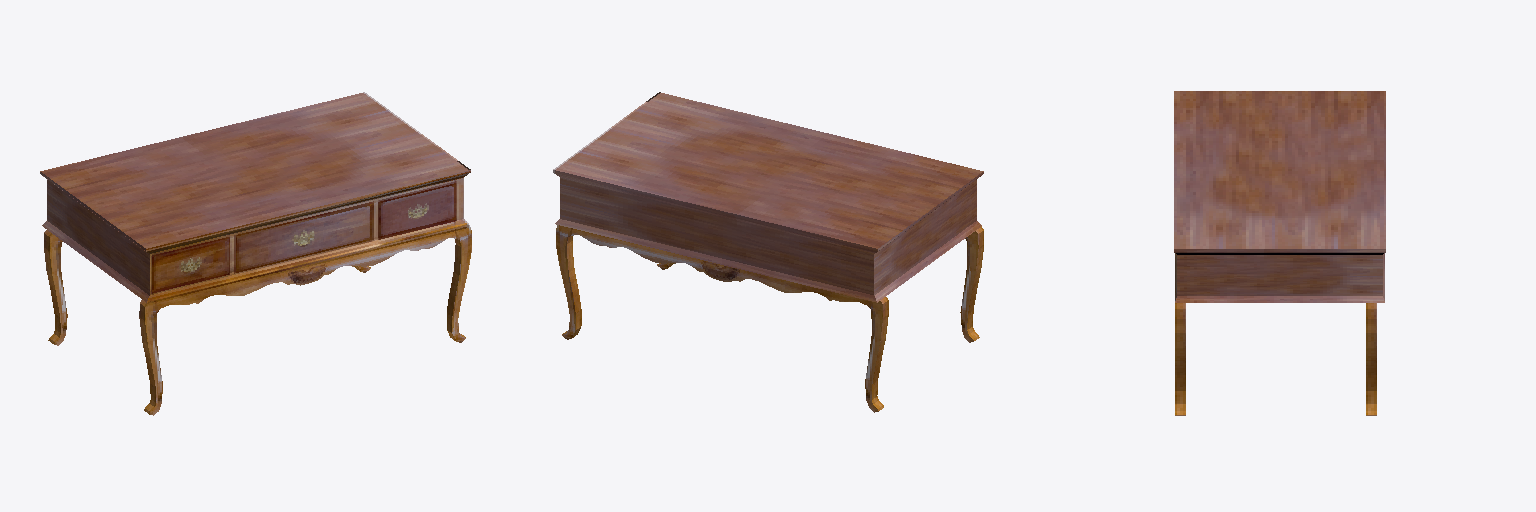
The picture shows the model from 3 angles: view 1: azimuth 30°, elevation 25°; view 2: azimuth 150°, elevation 25°; view 3: azimuth 270°, elevation 25°; orthographic projection.
Parts seen in each view (by area): view 1: table1; view 2: table1; view 3: table1.
Part boxes in pixels (bbox=[...]): table1: bbox=[40, 92, 471, 415]; table1: bbox=[553, 92, 983, 412]; table1: bbox=[1174, 91, 1385, 415].
Bounding box in the file's own units: 1.81 × 0.9021 × 1.01.
1 materials, 1 textured.